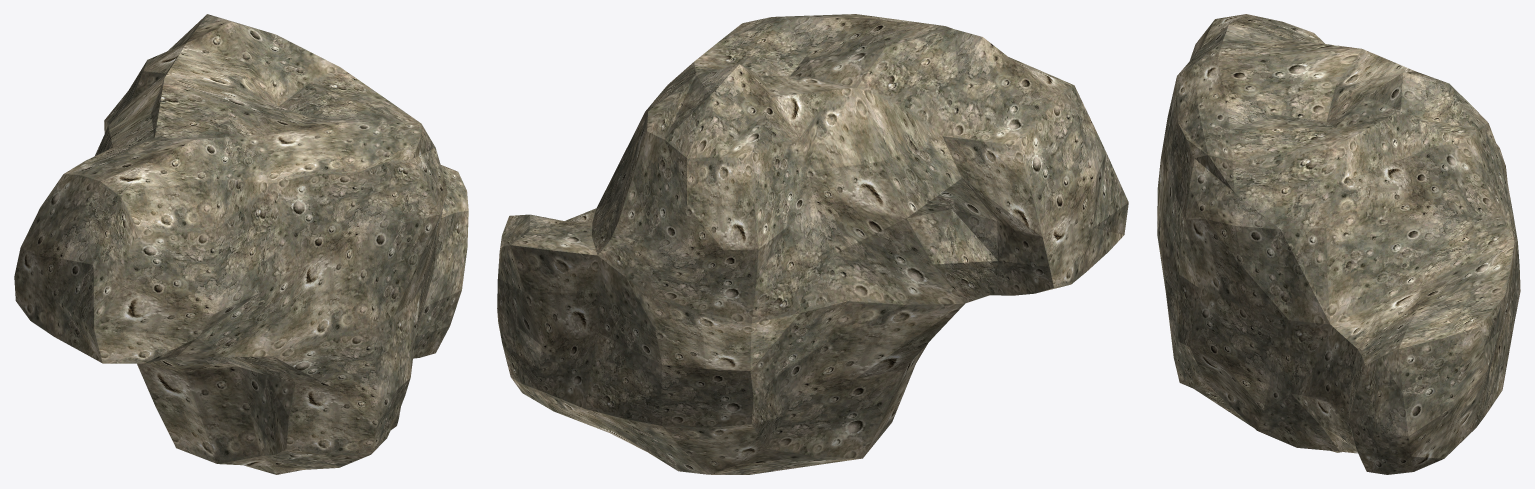
The model's file is asteroid_all_large_01_l0.fbx.
3 views of the same model, side by side, from view 1: azimuth 30°, elevation 25°; view 2: azimuth 150°, elevation 25°; view 3: azimuth 270°, elevation 25° (orthographic). The views are drawn at different scales.
Visible parts, largest first — view 1: mesh_node; view 2: mesh_node; view 3: mesh_node.
Boxes of the visible parts, <box> form: mesh_node: <box>14,14,468,474</box>; mesh_node: <box>497,14,1128,474</box>; mesh_node: <box>1157,14,1520,474</box>.
Size of the model in its own units: 144 by 117 by 106.
